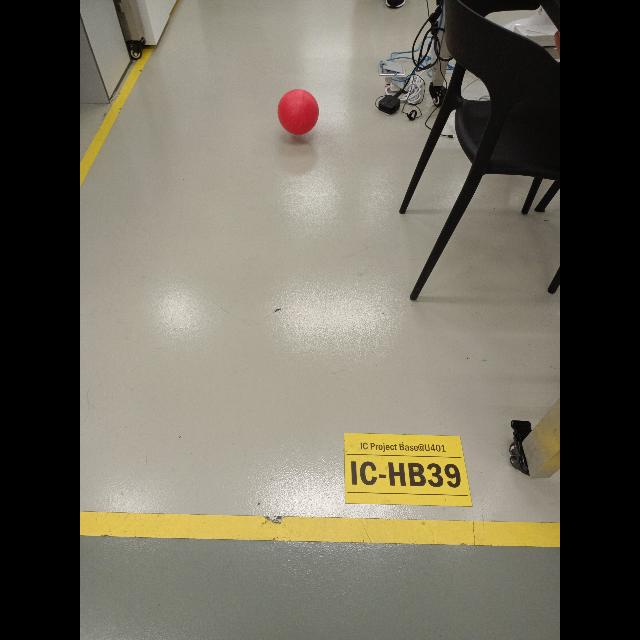R: (278, 89, 320, 135)
